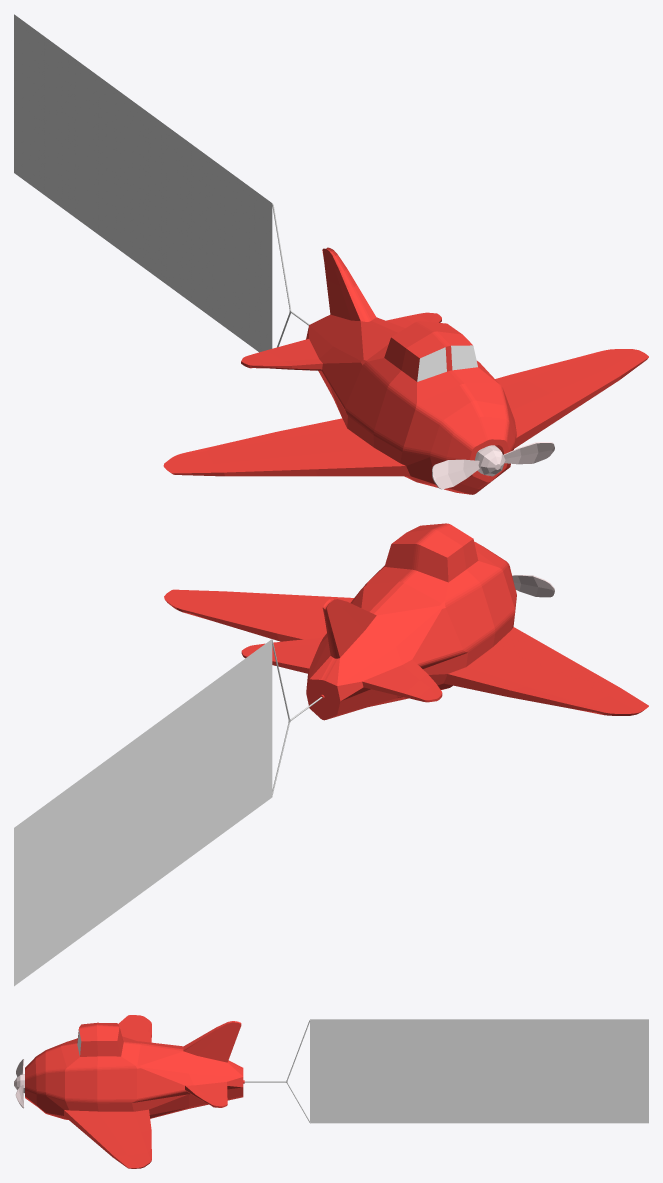
The model's file is airplanev2.glb.
3 views of the same model, one above another, from view 1: azimuth 30°, elevation 25°; view 2: azimuth 150°, elevation 25°; view 3: azimuth 270°, elevation 25° (orthographic). The views are drawn at different scales.
Parts seen in each view (by area): view 1: Plane, Banner, propeller; view 2: Plane, Banner, propeller; view 3: Banner, Plane, propeller.
Part boxes in pixels (box(x1,y1,x2,y2)): Plane: box(163, 204, 648, 494); Banner: box(14, 14, 272, 352); propeller: box(432, 442, 554, 489); Plane: box(164, 523, 648, 796); Banner: box(14, 639, 272, 986); propeller: box(512, 575, 554, 597); Banner: box(310, 1019, 648, 1123); Plane: box(25, 1015, 310, 1168); propeller: box(14, 1059, 24, 1108).
Bounding box in the file's own units: 3.15 × 1 × 5.53.
